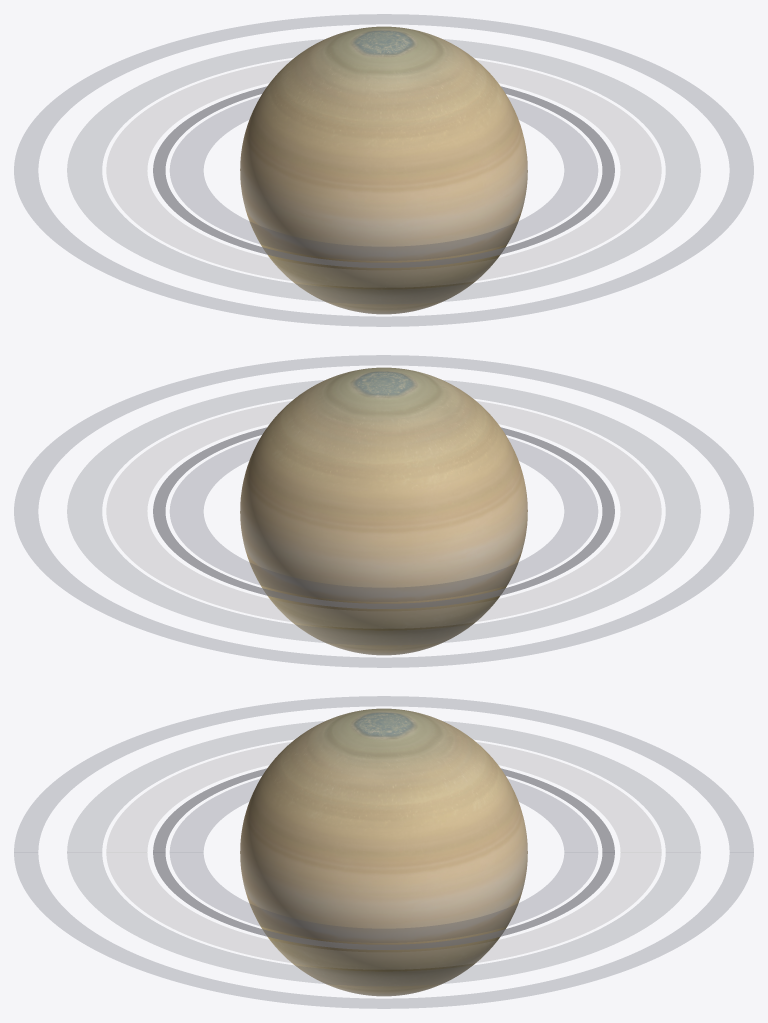
Rendered from saturn.glb.
3 views of the same model, one above another, from view 1: azimuth 30°, elevation 25°; view 2: azimuth 150°, elevation 25°; view 3: azimuth 270°, elevation 25° (orthographic).
Visible parts, largest first — view 1: Saturn, Circle 04, Circle 03, Circle 05, Circle 01, Circle 02; view 2: Saturn, Circle 04, Circle 03, Circle 05, Circle 01, Circle 02; view 3: Saturn, Circle 04, Circle 03, Circle 05, Circle 01, Circle 02.
Boxes of the visible parts, x1=… form: Saturn: x1=240, y1=26, x2=527, y2=314; Circle 04: x1=67, y1=39, x2=700, y2=303; Circle 03: x1=106, y1=60, x2=661, y2=287; Circle 05: x1=14, y1=14, x2=753, y2=326; Circle 01: x1=170, y1=97, x2=597, y2=260; Circle 02: x1=153, y1=86, x2=614, y2=267; Saturn: x1=240, y1=367, x2=527, y2=655; Circle 04: x1=67, y1=380, x2=700, y2=644; Circle 03: x1=106, y1=401, x2=661, y2=628; Circle 05: x1=14, y1=355, x2=753, y2=667; Circle 01: x1=170, y1=438, x2=597, y2=601; Circle 02: x1=153, y1=427, x2=614, y2=608; Saturn: x1=240, y1=708, x2=527, y2=996; Circle 04: x1=67, y1=721, x2=700, y2=985; Circle 03: x1=106, y1=742, x2=661, y2=969; Circle 05: x1=14, y1=696, x2=753, y2=1008; Circle 01: x1=170, y1=779, x2=597, y2=942; Circle 02: x1=153, y1=768, x2=614, y2=949.
Bounding box in the file's own units: 2.57 × 1 × 2.57.
6 materials, 1 textured.
